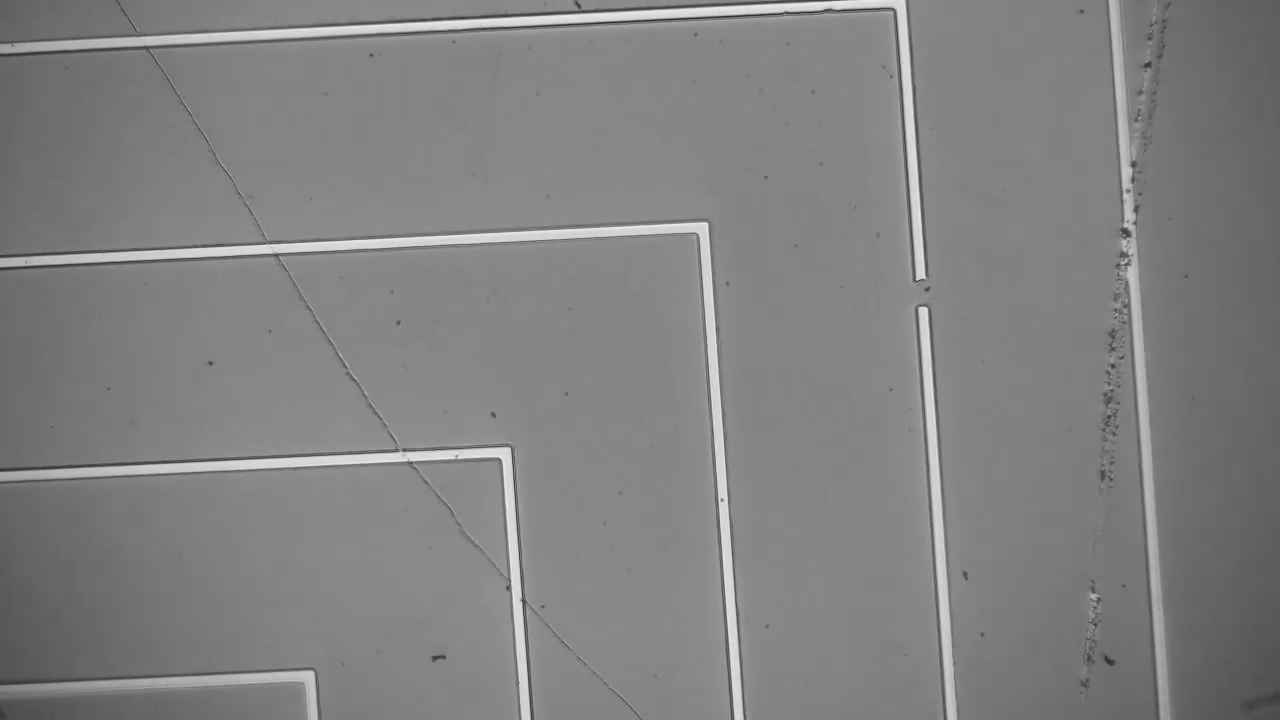open: (893, 262, 949, 334)
scratch: (109, 3, 631, 714), (1064, 11, 1178, 711)
